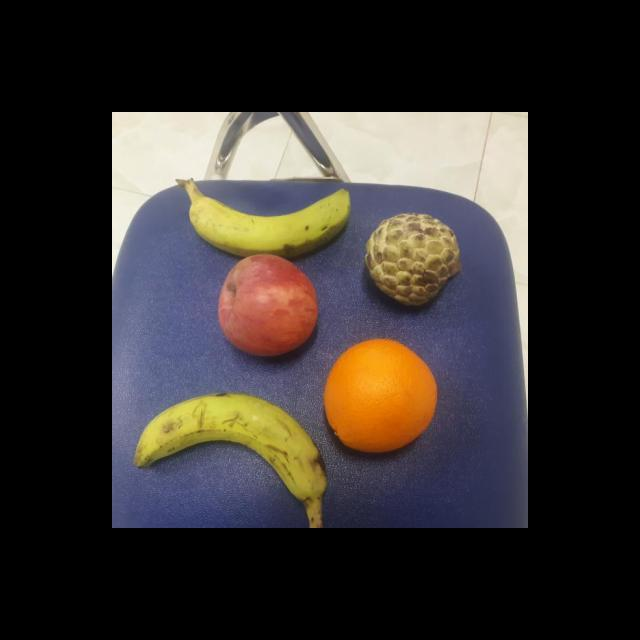Sakya fruit: (363, 210, 463, 308)
apple: (217, 254, 321, 359)
banana: (133, 388, 328, 504), (183, 182, 355, 256)
orange: (319, 337, 438, 452)
